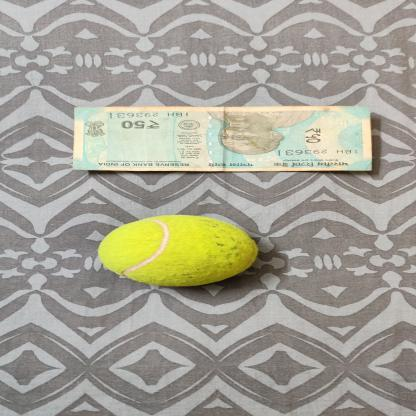New50Front: (69, 105, 377, 172)
